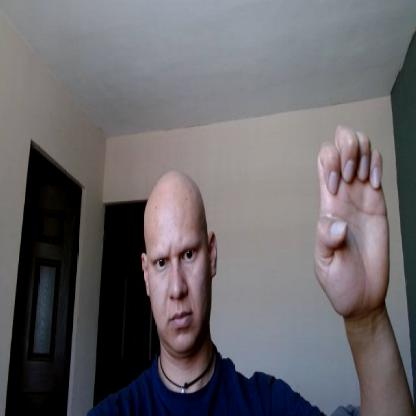E: (313, 126, 391, 315)
